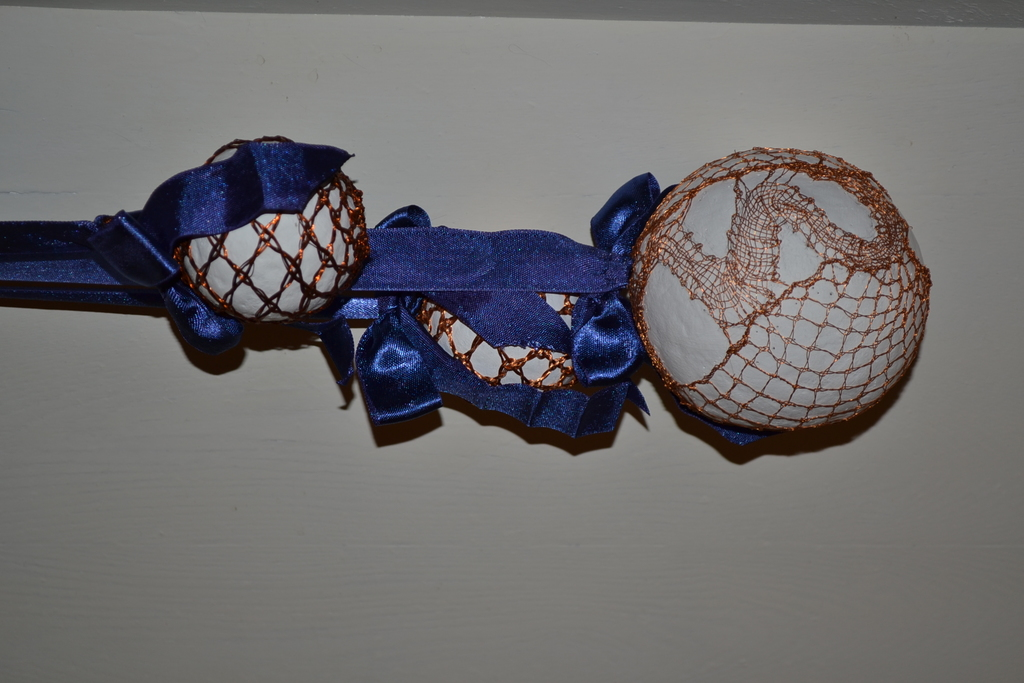Ball: (634, 149, 936, 434), (181, 138, 369, 325)
